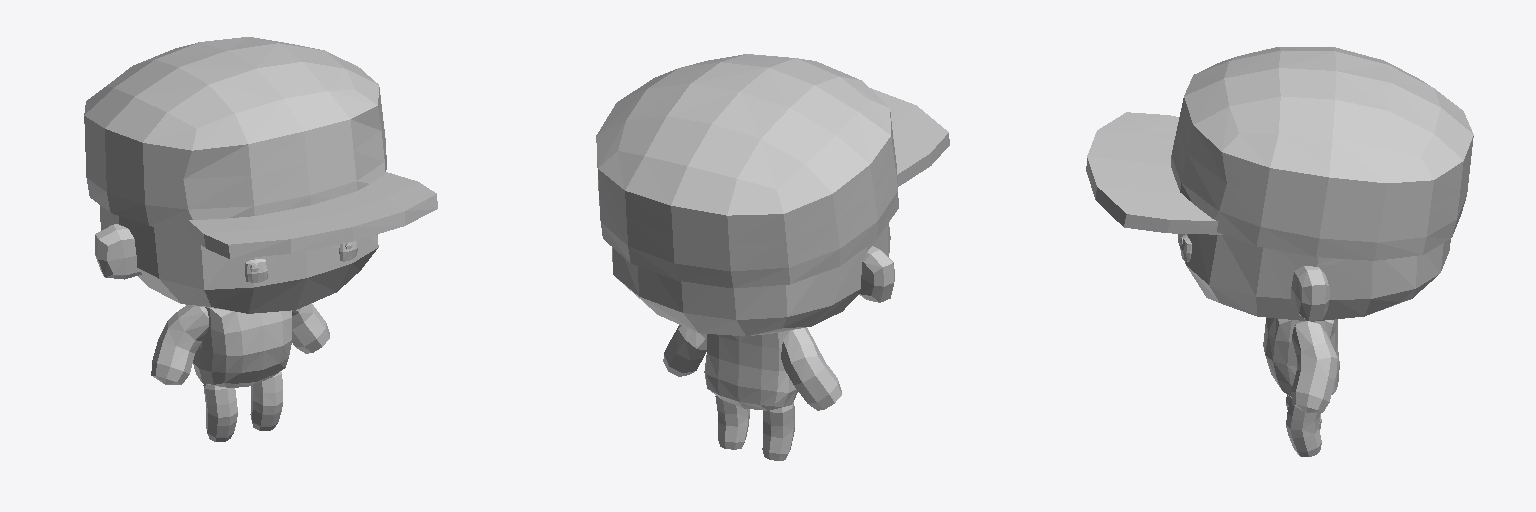
The model's file is idle_0025.obj.
3 renders of one model, left to right at view 1: azimuth 30°, elevation 25°; view 2: azimuth 150°, elevation 25°; view 3: azimuth 270°, elevation 25°, orthographic.
Visible parts, largest first — view 1: Object_41, Object_42, Object_36, Object_44, Object_38; view 2: Object_41, Object_44, Object_36, Object_42; view 3: Object_41, Object_36, Object_42, Object_44.
Boxes of the visible parts, x1,y1,x2,y2 form: Object_41: [84, 37, 386, 230]; Object_42: [183, 106, 437, 258]; Object_36: [95, 205, 378, 313]; Object_44: [151, 303, 329, 441]; Object_38: [245, 241, 357, 282]; Object_41: [596, 54, 898, 288]; Object_44: [663, 325, 841, 460]; Object_36: [612, 223, 894, 335]; Object_42: [870, 88, 949, 186]; Object_41: [1184, 47, 1473, 260]; Object_36: [1178, 234, 1450, 321]; Object_42: [1086, 98, 1226, 234]; Object_44: [1263, 318, 1339, 456].
Bounding box in the file's own units: 0.9691 × 1.22 × 1.14.